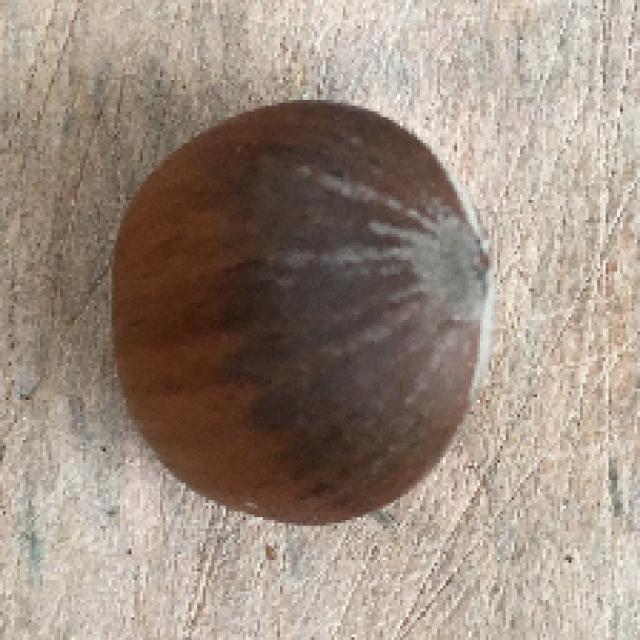qualityHazelnut: (106, 93, 490, 524)
